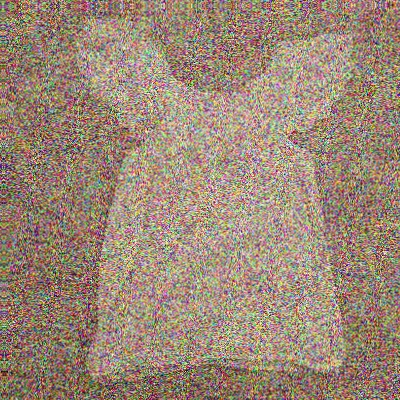Dress: (57, 21, 374, 374)
